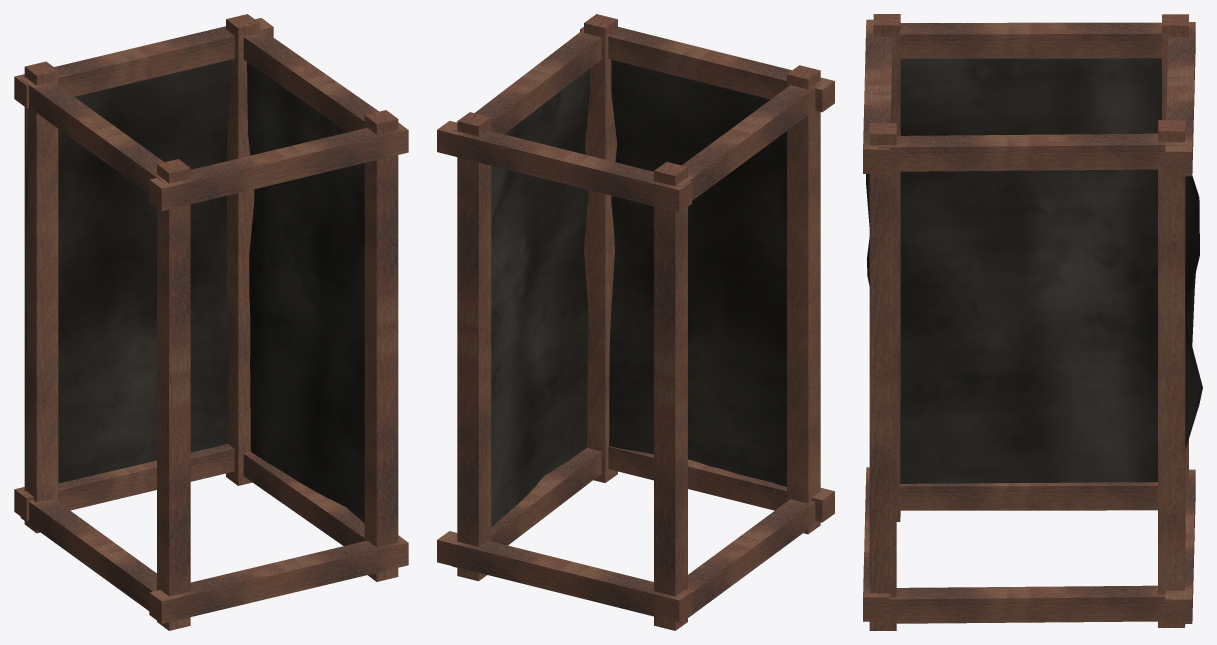
The model's file is Mineshaft.fbx.
The picture shows the model from 3 angles, left to right: view 1: azimuth 30°, elevation 25°; view 2: azimuth 150°, elevation 25°; view 3: azimuth 270°, elevation 25°; orthographic projection. The views are drawn at different scales.
Parts seen in each view (by area): view 1: Plane.001, Plank3, Plank4, Plank9, Plank10, Plank2, Plank7, Plank11, Plank6, Plank1, Plank5, Plank8 (+1 smaller); view 2: Plane.001, Plank10, Plank9, Plank4, Plank3, Plank8, Plank11, Plank7, Plank6, Plank1, Plank5, Plank2 (+1 smaller); view 3: Plane.001, Plank3, Plank10, Plank5, Plank0, Plank6, Plank1, Plank11, Plank7, Plank4, Plank8, Plank2 (+1 smaller).
Boxes of the visible parts, <box> form: Plane.001: <box>24,60,364,522</box>; Plank3: <box>364,110,398,581</box>; Plank4: <box>157,159,190,630</box>; Plank9: <box>24,61,58,533</box>; Plank10: <box>226,14,259,485</box>; Plank2: <box>149,535,408,623</box>; Plank7: <box>149,122,408,211</box>; Plank11: <box>14,18,273,108</box>; Plank6: <box>21,77,166,194</box>; Plank1: <box>20,498,156,610</box>; Plank5: <box>243,28,398,132</box>; Plank8: <box>14,444,234,520</box>; Plane.001: <box>491,59,786,527</box>; Plank10: <box>457,112,491,581</box>; Plank9: <box>654,162,687,630</box>; Plank4: <box>787,65,820,534</box>; Plank3: <box>584,14,617,482</box>; Plank8: <box>437,531,691,622</box>; Plank11: <box>437,121,691,212</box>; Plank7: <box>580,27,834,112</box>; Plank6: <box>676,82,821,200</box>; Plank1: <box>680,499,818,622</box>; Plank5: <box>452,29,601,135</box>; Plank2: <box>608,446,834,522</box>; Plane.001: <box>866,58,1202,483</box>; Plank3: <box>869,123,896,630</box>; Plank10: <box>1158,120,1185,627</box>; Plank5: <box>878,133,1185,171</box>; Plank0: <box>878,585,1165,623</box>; Plank6: <box>900,22,1161,58</box>; Plank1: <box>900,482,1157,510</box>; Plank11: <box>1165,22,1195,176</box>; Plank7: <box>863,19,892,173</box>; Plank4: <box>873,14,900,521</box>; Plank8: <box>1165,469,1195,623</box>; Plank2: <box>863,467,889,621</box>.
Bounding box in the file's own units: 401 × 701 × 435.
